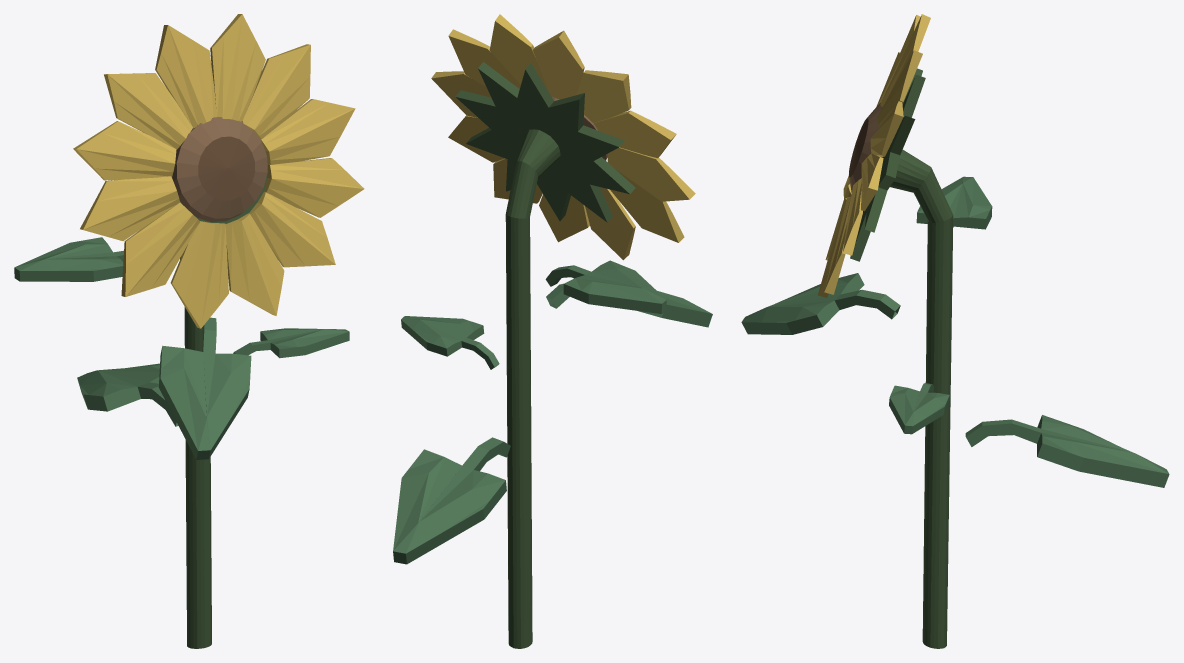
The model's file is girasol.fbx.
3 renders of one model, left to right at view 1: azimuth 30°, elevation 25°; view 2: azimuth 150°, elevation 25°; view 3: azimuth 270°, elevation 25°, orthographic. The views are drawn at different scales.
Parts seen in each view (by area): view 1: pCube17; view 2: pCube17; view 3: pCube17.
Boxes of the visible parts, left/top/right/bottom form: pCube17: left=14, top=14, right=364, bottom=648; pCube17: left=393, top=14, right=712, bottom=648; pCube17: left=741, top=14, right=1169, bottom=648.
Size of the model in its own units: 2.35 by 4.75 by 3.01.
